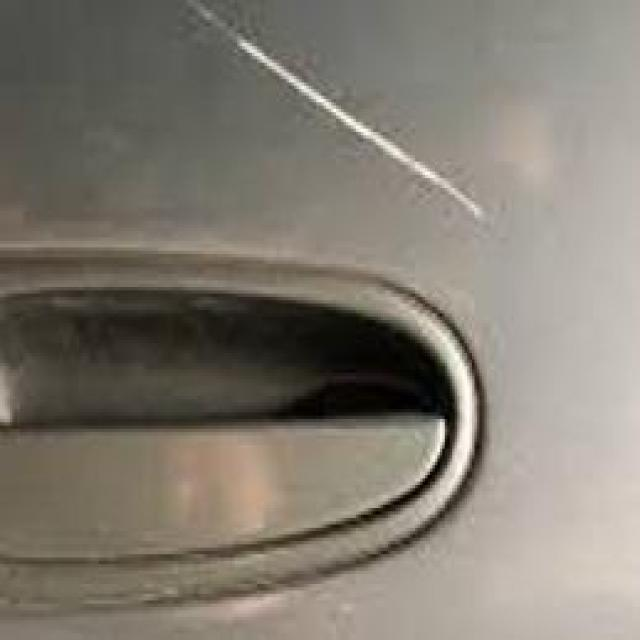scratch: (167, 1, 499, 242)
